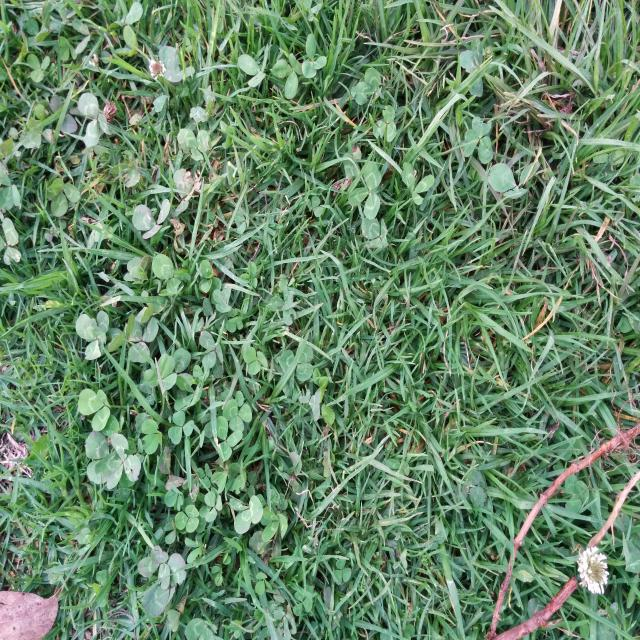Four Leaf Clover: (76, 312, 109, 360)
